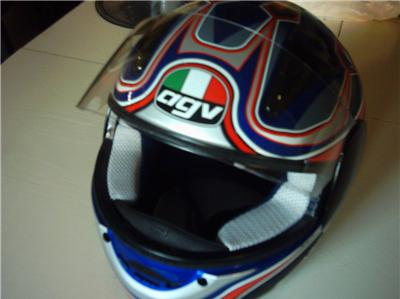helmet: (90, 18, 354, 294)
